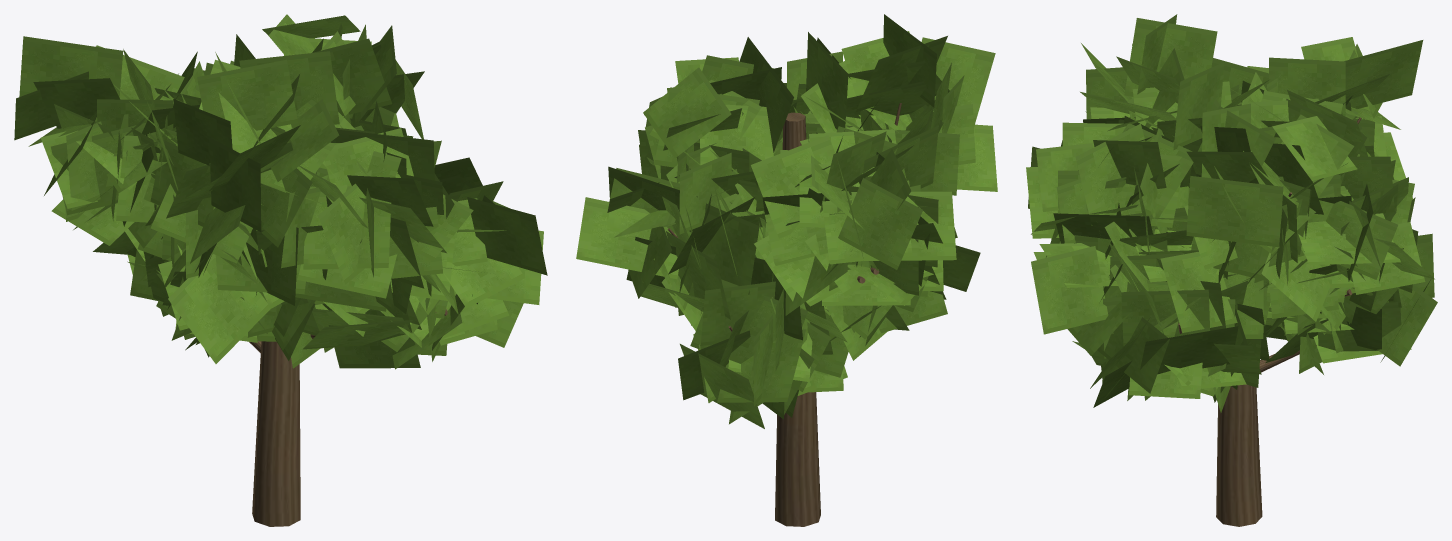
The picture shows the model from 3 angles, left to right: view 1: azimuth 30°, elevation 25°; view 2: azimuth 150°, elevation 25°; view 3: azimuth 270°, elevation 25°; orthographic projection. The views are drawn at different scales.
Parts seen in each view (by area): view 1: oak-leaf, oak-bark; view 2: oak-leaf, oak-bark; view 3: oak-leaf, oak-bark.
Part boxes in pixels (bbox=[...]): oak-leaf: bbox=[14, 14, 547, 369]; oak-bark: bbox=[249, 309, 447, 526]; oak-leaf: bbox=[576, 14, 997, 428]; oak-bark: bbox=[667, 103, 901, 526]; oak-leaf: bbox=[1026, 14, 1437, 412]; oak-bark: bbox=[1178, 117, 1361, 526].
Size of the model in its own units: 7.84 by 9.28 by 7.47.
2 materials, 2 textured.
